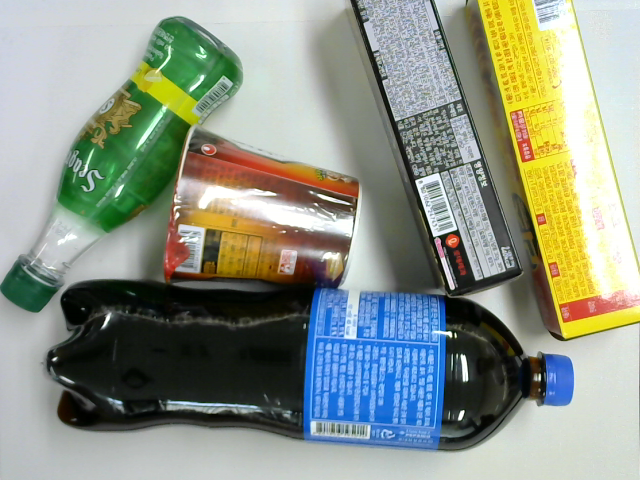Chicchok_Original_2400: (344, 1, 526, 304)
Ojjam: (159, 124, 366, 289)
Pepsi_Cola_1.5L: (42, 281, 577, 449)
Ritz_Remon_96g: (464, 4, 640, 343)
Seagram_Lemon_Carbonated_Water: (1, 13, 246, 317)
